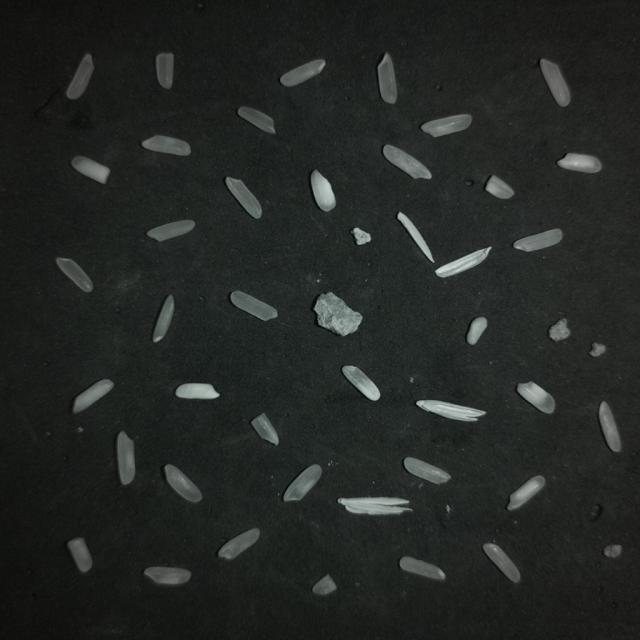broken: (156, 53, 174, 89), (603, 544, 622, 558)
chalky: (383, 145, 431, 179), (164, 464, 202, 503), (283, 464, 321, 501), (72, 379, 113, 413), (342, 366, 380, 401), (507, 475, 545, 510), (218, 529, 259, 559), (280, 60, 325, 86), (517, 382, 554, 413), (599, 402, 621, 452), (72, 156, 110, 184), (311, 170, 336, 211), (117, 432, 135, 485), (557, 153, 601, 173), (67, 538, 92, 573), (144, 567, 191, 585), (175, 383, 219, 399), (485, 175, 514, 199), (312, 574, 336, 595)
foreign: (314, 292, 362, 336), (397, 212, 434, 262), (435, 247, 491, 277), (417, 401, 484, 420), (338, 497, 412, 514), (466, 317, 487, 345), (548, 319, 570, 341), (351, 228, 371, 245), (589, 343, 606, 356)
whole: (225, 177, 262, 219), (483, 544, 520, 583), (540, 59, 570, 106), (230, 291, 277, 321), (404, 457, 451, 484), (56, 258, 93, 292), (67, 54, 94, 99), (513, 229, 562, 252), (421, 115, 471, 137), (399, 557, 445, 580), (142, 135, 191, 156), (238, 107, 275, 134), (153, 295, 174, 342), (147, 220, 194, 241), (378, 53, 396, 104), (251, 414, 278, 444)
